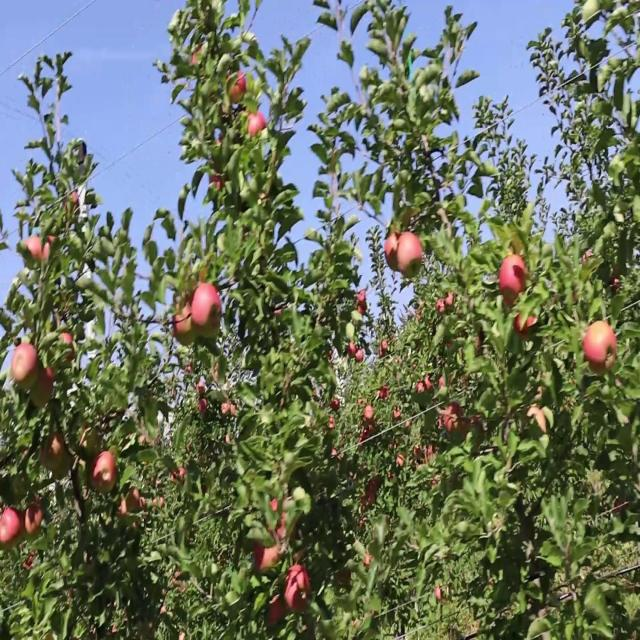apple: (584, 319, 619, 375), (192, 284, 224, 340), (268, 497, 298, 546), (500, 255, 528, 306), (44, 433, 71, 482), (12, 341, 39, 389), (284, 568, 312, 613), (172, 298, 197, 347), (92, 455, 118, 496), (400, 234, 424, 277), (32, 369, 56, 411), (256, 540, 280, 576), (0, 511, 21, 548), (228, 71, 248, 107), (24, 504, 44, 537), (248, 106, 268, 137), (384, 234, 400, 272), (516, 312, 537, 340), (528, 405, 548, 434), (444, 405, 463, 434), (24, 234, 42, 263), (268, 597, 285, 626), (60, 334, 76, 363), (612, 263, 623, 295), (356, 291, 368, 316), (340, 568, 352, 588), (44, 241, 53, 263), (364, 554, 375, 571), (212, 177, 224, 192), (612, 277, 622, 295)
